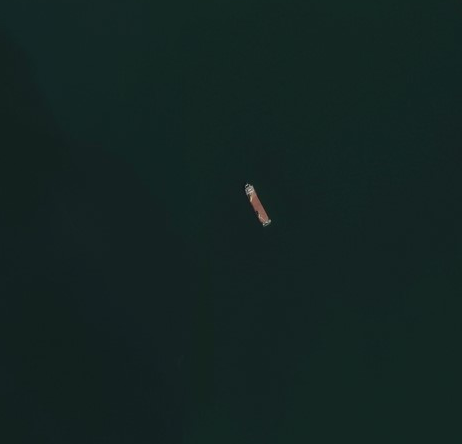ship: (240, 182, 278, 230)
